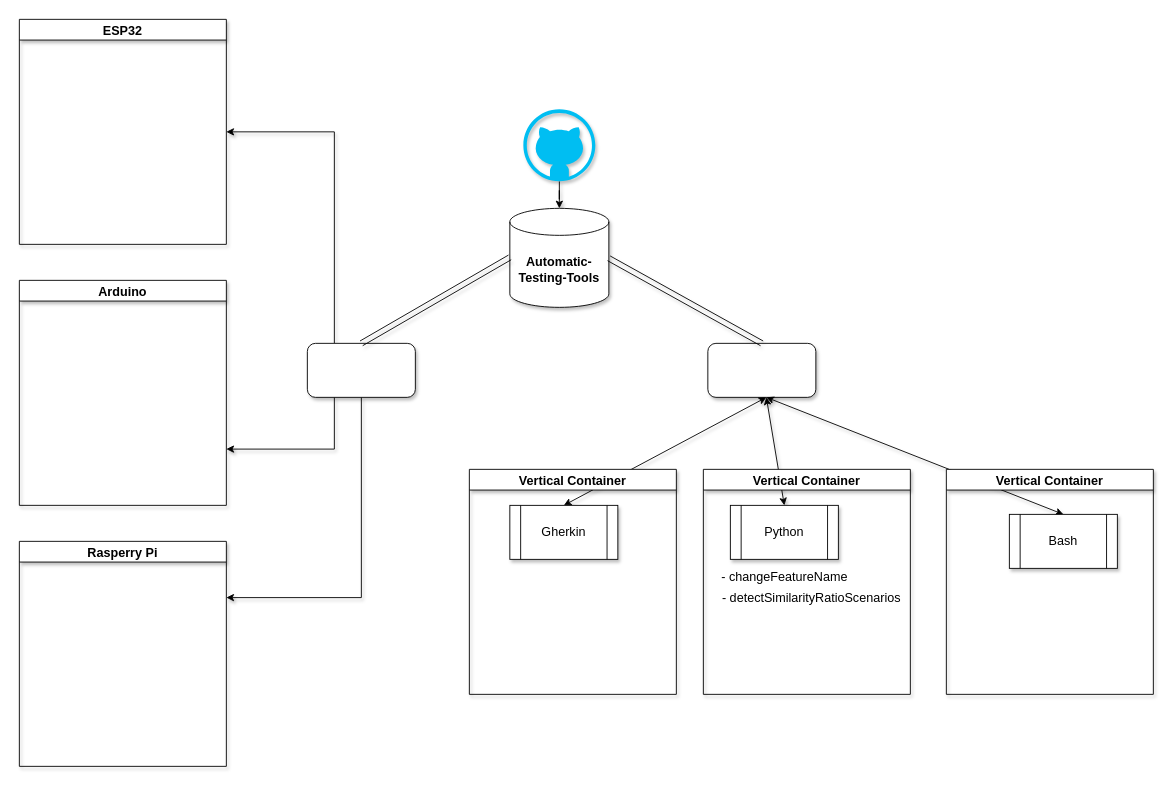
Image size: 1175x788. Some labels were removed from this diagram. The centre of each missing label's shape, as x and y in pixels:
"Automatic Hardware IoT" goes at point (362, 371).
"Automatic Software" goes at point (762, 371).
